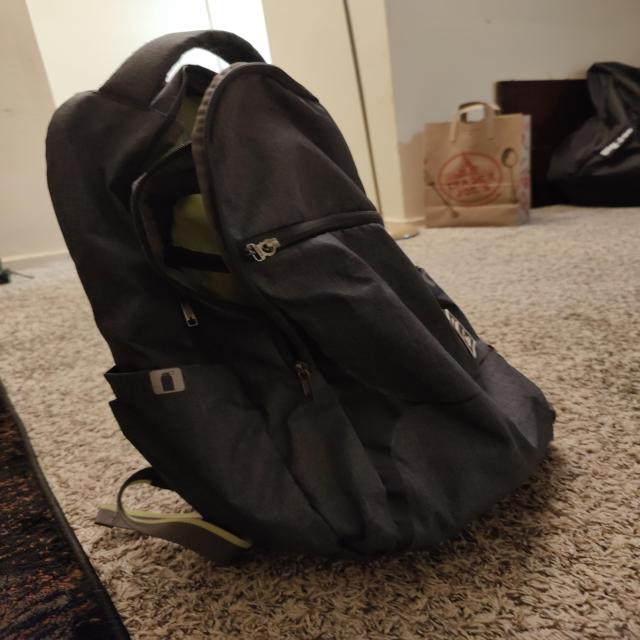bag: (89, 97, 376, 538)
